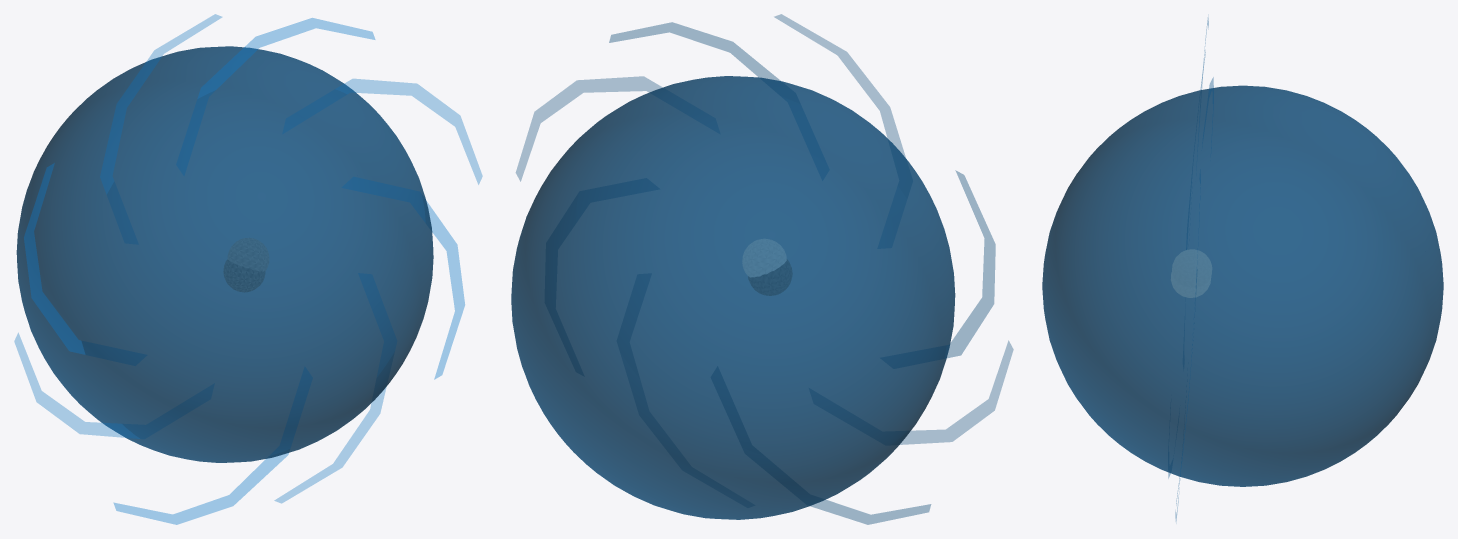
Rendered from super_odama_rasengan.glb.
3 views of the same model, side by side, from view 1: azimuth 30°, elevation 25°; view 2: azimuth 150°, elevation 25°; view 3: azimuth 270°, elevation 25° (orthographic). The views are drawn at different scales.
Visible parts, largest first — view 1: root_Material_92_0, node_id5, node_id48, node_id50, node_id7; view 2: root_Material_92_0, node_id5, node_id48, node_id50, node_id7; view 3: root_Material_92_0, node_id50.
Boxes of the visible parts, left/top/right/bottom form: root_Material_92_0: left=16, top=46, right=433, bottom=462; node_id5: left=24, top=18, right=464, bottom=524; node_id48: left=14, top=14, right=482, bottom=503; node_id50: left=228, top=238, right=268, bottom=271; node_id7: left=223, top=259, right=265, bottom=292; root_Material_92_0: left=511, top=76, right=955, bottom=519; node_id5: left=577, top=22, right=995, bottom=524; node_id48: left=516, top=14, right=1013, bottom=444; node_id50: left=742, top=239, right=786, bottom=277; node_id7: left=748, top=259, right=792, bottom=295; root_Material_92_0: left=1042, top=85, right=1443, bottom=486; node_id50: left=1172, top=249, right=1211, bottom=287.
Size of the model in its own units: 0.6128 by 0.6115 by 0.4728.
